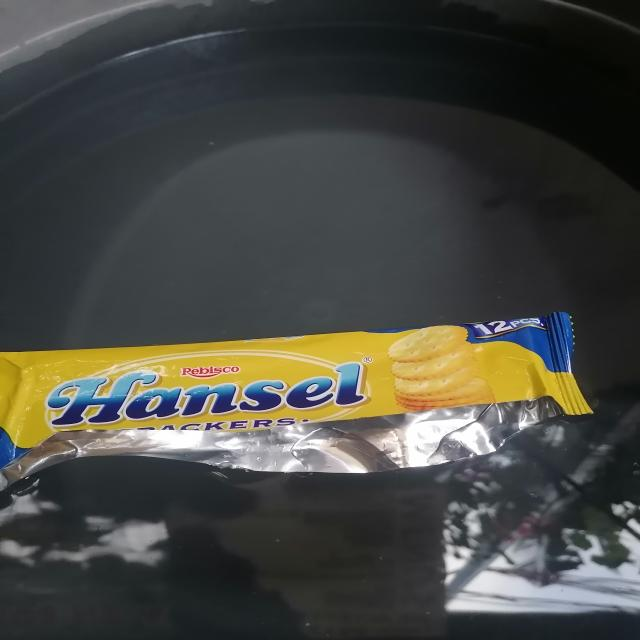Plastic Wrapper: (0, 312, 591, 486)
